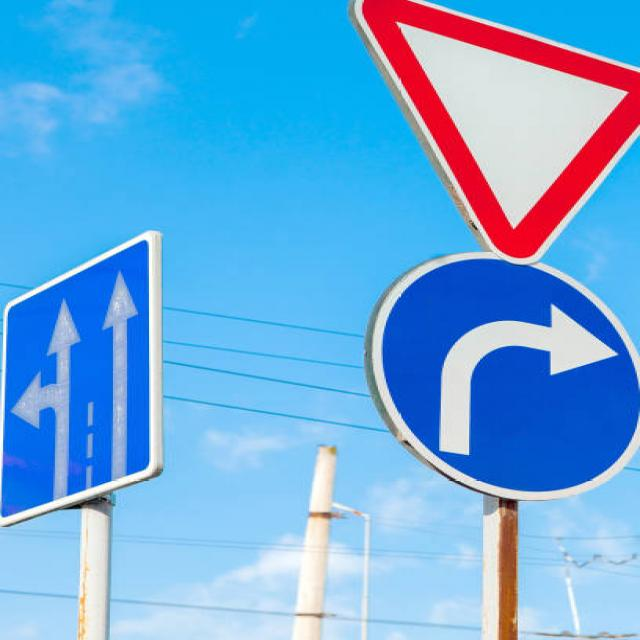give_way: (321, 0, 639, 264)
